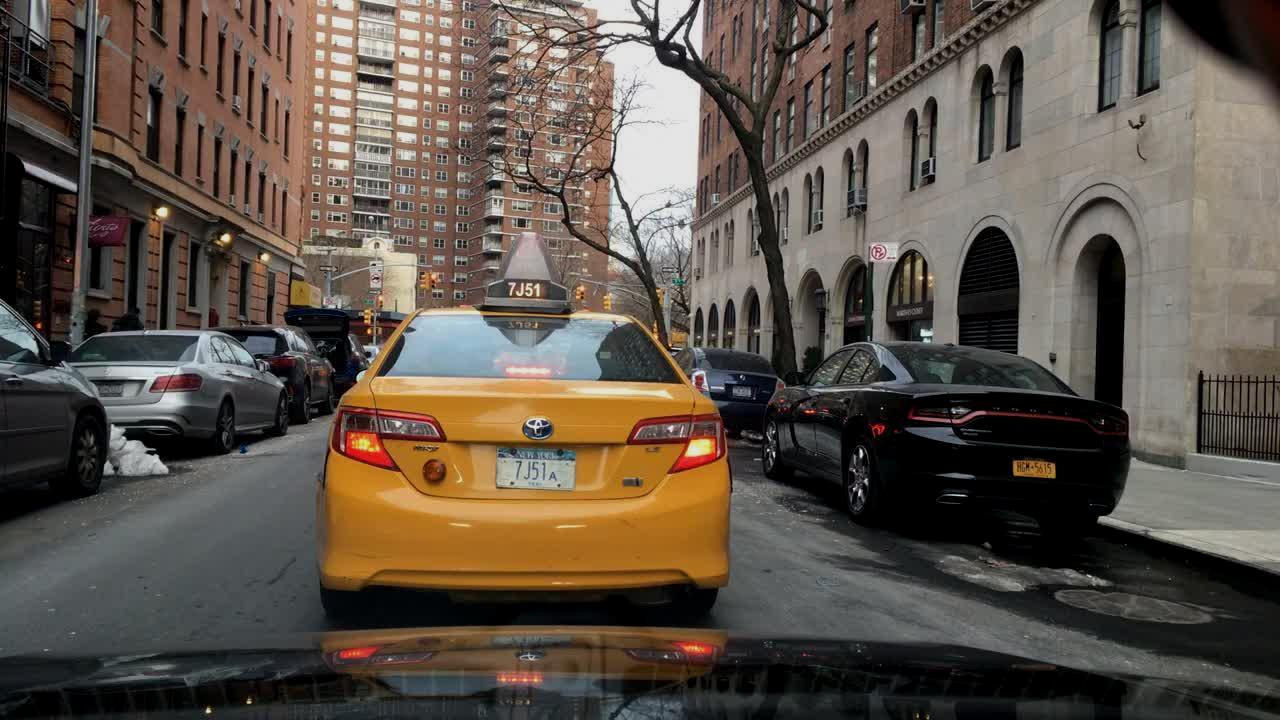Toyota: (508, 409, 575, 453)
dodge: (973, 397, 1087, 429)
